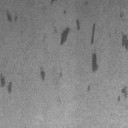red iron: (60, 19, 80, 46), (0, 74, 12, 94), (90, 23, 96, 44), (92, 52, 98, 72), (122, 34, 128, 50), (40, 66, 46, 81), (6, 10, 12, 22), (122, 86, 128, 98), (120, 12, 124, 18), (87, 84, 90, 92)
